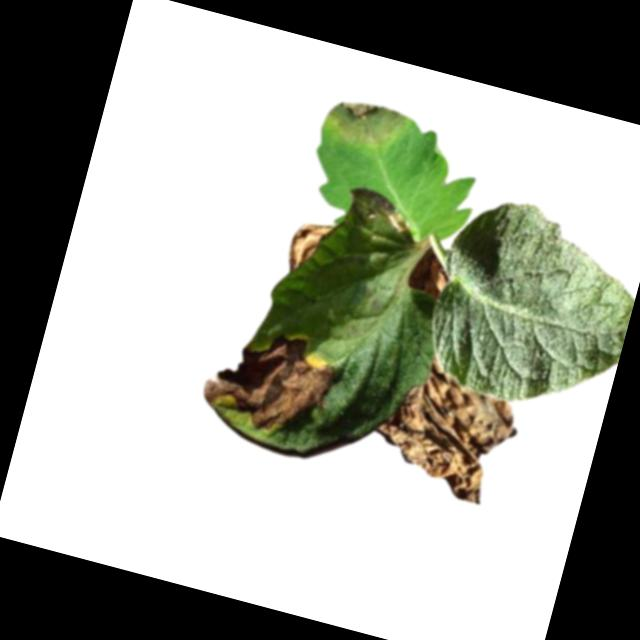Late_blight: (362, 345, 530, 510), (194, 313, 344, 447), (322, 88, 411, 158), (342, 184, 416, 241), (283, 216, 333, 279), (405, 247, 456, 303)
